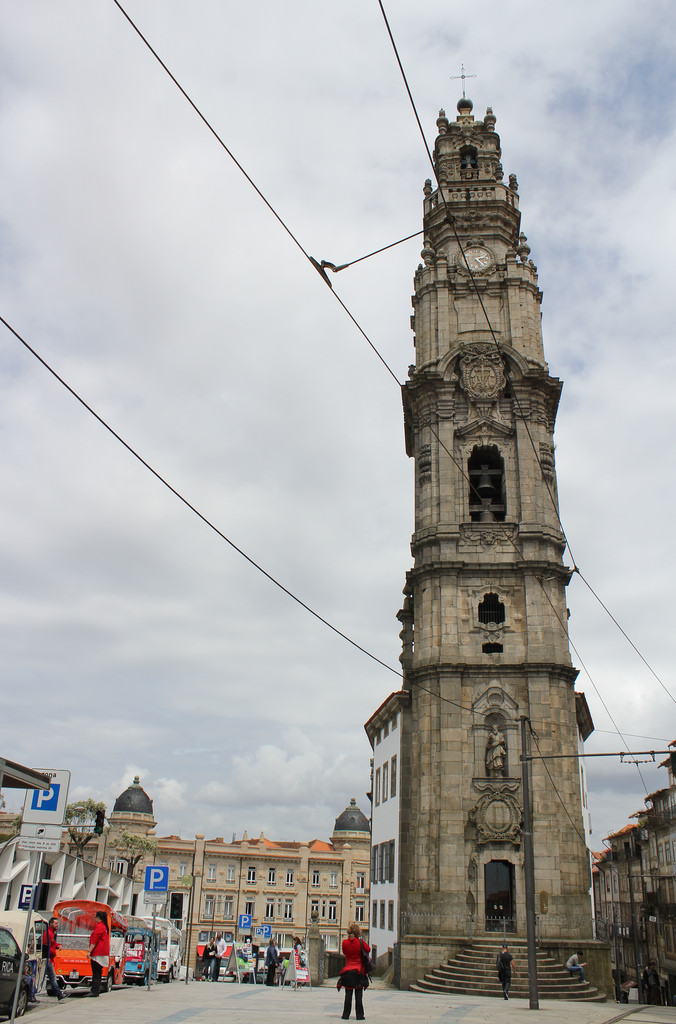clerigos: (395, 63, 598, 944)
